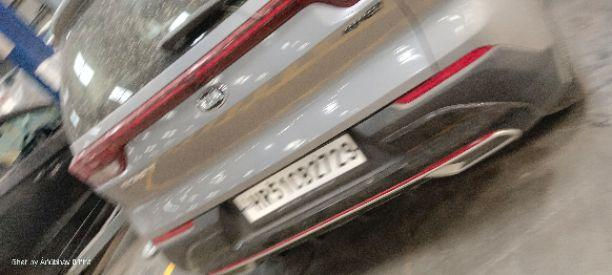license_plate: (228, 130, 368, 224)
